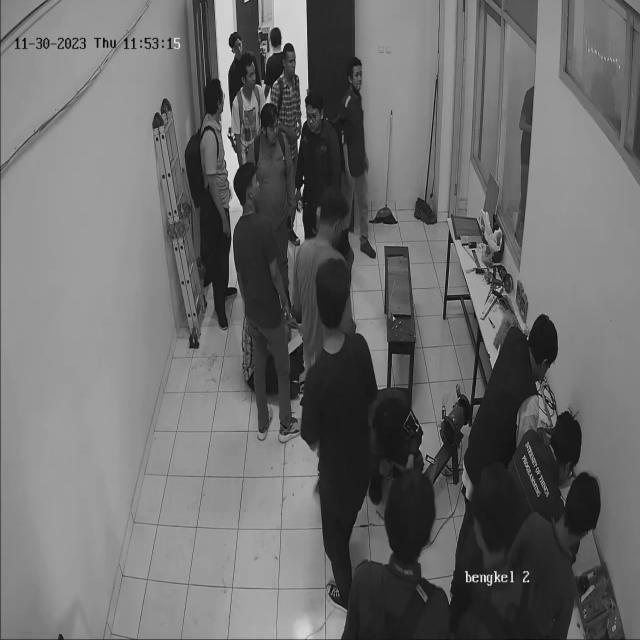person: (176, 68, 246, 354)
